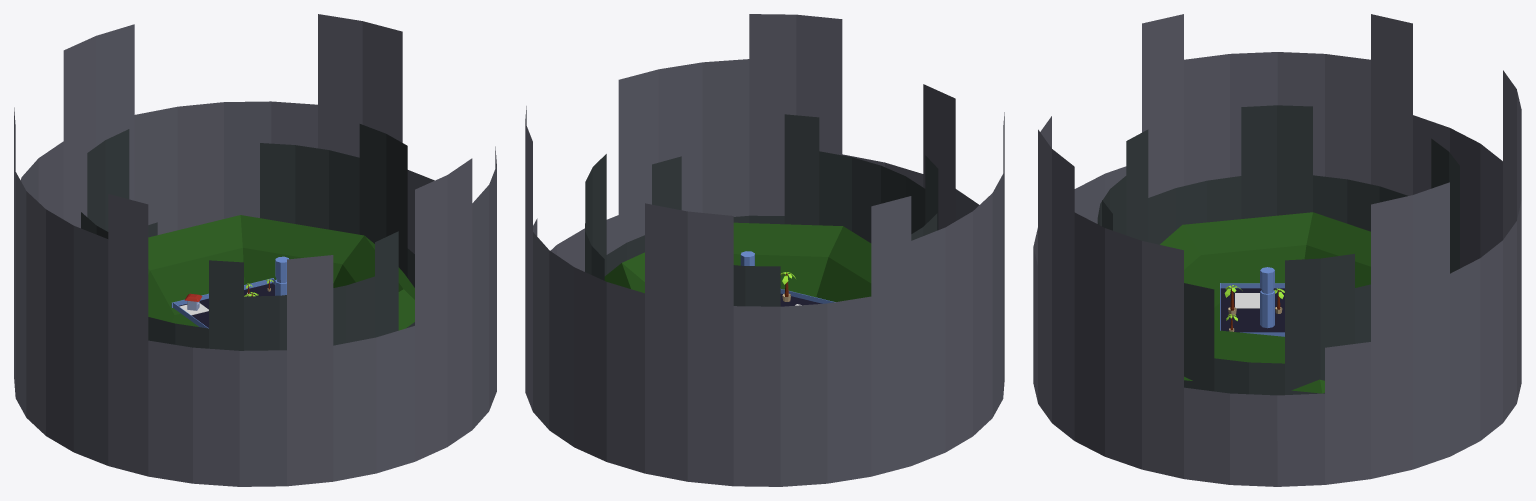
Rendered from level.fbx.
3 renders of one model, left to right at view 1: azimuth 30°, elevation 25°; view 2: azimuth 150°, elevation 25°; view 3: azimuth 270°, elevation 25°, orthographic.
Visible parts, largest first — view 1: Plane, Plane.001, Circle.003, floor; view 2: Plane, Plane.001, Circle.003; view 3: Plane, Plane.001, Circle.003, floor, Cylinder.
Boxes of the visible parts, left/top/right/bottom form: Plane: left=14, top=14, right=496, bottom=486; Plane.001: left=81, top=124, right=414, bottom=350; Circle.003: left=148, top=215, right=414, bottom=330; floor: left=179, top=283, right=275, bottom=327; Plane: left=525, top=14, right=1004, bottom=486; Plane.001: left=585, top=114, right=938, bottom=306; Circle.003: left=604, top=222, right=871, bottom=301; Plane: left=1033, top=14, right=1521, bottom=486; Plane.001: left=1097, top=105, right=1459, bottom=395; Circle.003: left=1160, top=212, right=1370, bottom=393; floor: left=1220, top=288, right=1284, bottom=332; Cylinder: left=1260, top=267, right=1274, bottom=328.
Bounding box in the file's own units: 83867 × 53242 × 83867.
